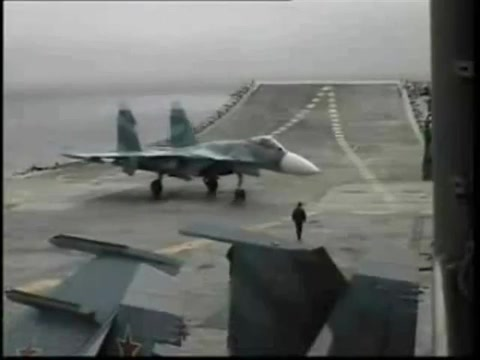aeroplane: (62, 108, 323, 204)
